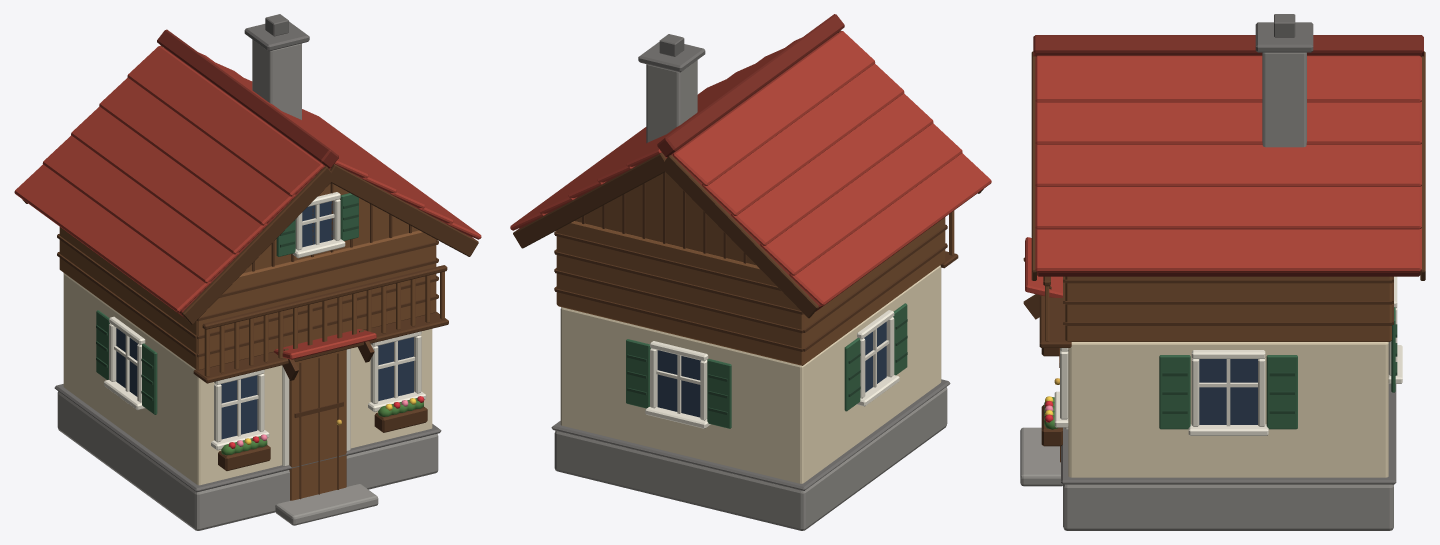
The model's file is house_0.glb.
3 renders of one model, left to right at view 1: azimuth 30°, elevation 25°; view 2: azimuth 150°, elevation 25°; view 3: azimuth 270°, elevation 25°, orthographic. The views are drawn at different scales.
Visible parts, largest first — view 1: House0; view 2: House0; view 3: House0.
Boxes of the visible parts, x1,y1,x2,y2 form: House0: (14, 14, 481, 530); House0: (510, 14, 991, 530); House0: (1020, 14, 1425, 530).
Bounding box in the file's own units: 3.89 × 4.91 × 3.8.
